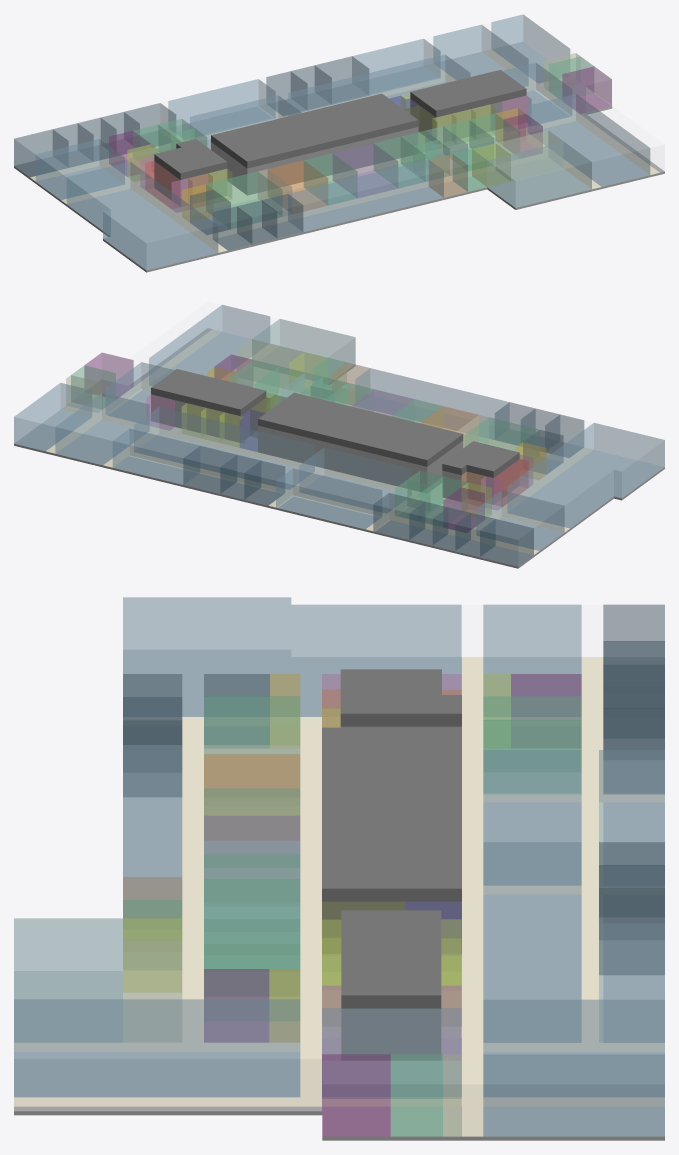
Rendered from SpacePlanning.gltf.
The picture shows the model from 3 angles, top to bottom: view 1: azimuth 30°, elevation 25°; view 2: azimuth 150°, elevation 25°; view 3: azimuth 270°, elevation 25°; orthographic projection. The views are drawn at different scales.
Parts seen in each view (by area): view 1: 578219e0-9856-4081-84ac-162c3aeb03e3_mesh, 3606f0df-44c4-44f6-a435-e1a0e82ad952_mesh, d583ab8f-e34f-4f96-8d65-cfbe2e4169eb_mesh, c1137b55-97d3-4327-931e-a519d5170c7f_mesh, 2bc64f56-2a92-4327-9a93-3a0712d9a7a2_mesh, 4f078090-3fbf-4544-b700-0b62859893aa_mesh, d5181627-fd1c-4803-a74a-4a32c890e183_mesh, 18dfb5b2-8659-4a04-b5fe-ef76efbe9e72_mesh, 18a799c1-82ca-4eeb-8200-65c109356fa4_mesh, 8dd07106-031f-4a91-bbbe-b4e16e608424_mesh, 3043164d-509c-4c94-a68b-1f2dc6232ccf_mesh, 8e66fce6-6ddf-4008-9de9-02c5e11db4a6_mesh (+61 smaller); view 2: 578219e0-9856-4081-84ac-162c3aeb03e3_mesh, 3606f0df-44c4-44f6-a435-e1a0e82ad952_mesh, d583ab8f-e34f-4f96-8d65-cfbe2e4169eb_mesh, c1137b55-97d3-4327-931e-a519d5170c7f_mesh, 18a799c1-82ca-4eeb-8200-65c109356fa4_mesh, 2bc64f56-2a92-4327-9a93-3a0712d9a7a2_mesh, d5181627-fd1c-4803-a74a-4a32c890e183_mesh, 4f078090-3fbf-4544-b700-0b62859893aa_mesh, 63f06fef-f0a7-4e81-94a0-9d4a59bf98f2_mesh, 8e66fce6-6ddf-4008-9de9-02c5e11db4a6_mesh, 8dd07106-031f-4a91-bbbe-b4e16e608424_mesh, 18dfb5b2-8659-4a04-b5fe-ef76efbe9e72_mesh (+60 smaller); view 3: 578219e0-9856-4081-84ac-162c3aeb03e3_mesh, 3606f0df-44c4-44f6-a435-e1a0e82ad952_mesh, c1137b55-97d3-4327-931e-a519d5170c7f_mesh, 2bc64f56-2a92-4327-9a93-3a0712d9a7a2_mesh, d583ab8f-e34f-4f96-8d65-cfbe2e4169eb_mesh, 18a799c1-82ca-4eeb-8200-65c109356fa4_mesh, 8e66fce6-6ddf-4008-9de9-02c5e11db4a6_mesh, ac015f33-7ea9-4a00-8fcc-ef9436433a6e_mesh, d5181627-fd1c-4803-a74a-4a32c890e183_mesh, 18dfb5b2-8659-4a04-b5fe-ef76efbe9e72_mesh, 63f06fef-f0a7-4e81-94a0-9d4a59bf98f2_mesh, 1436993b-e7c8-4199-b3c5-b80213dc59dc_mesh (+70 smaller).
Boxes of the visible parts, x1=… form: 578219e0-9856-4081-84ac-162c3aeb03e3_mesh: x1=14, y1=15, x2=664, y2=269; 3606f0df-44c4-44f6-a435-e1a0e82ad952_mesh: x1=14, y1=42, x2=664, y2=272; d583ab8f-e34f-4f96-8d65-cfbe2e4169eb_mesh: x1=211, y1=93, x2=418, y2=188; c1137b55-97d3-4327-931e-a519d5170c7f_mesh: x1=67, y1=162, x2=217, y2=269; 2bc64f56-2a92-4327-9a93-3a0712d9a7a2_mesh: x1=528, y1=94, x2=649, y2=186; 4f078090-3fbf-4544-b700-0b62859893aa_mesh: x1=288, y1=160, x2=443, y2=231; d5181627-fd1c-4803-a74a-4a32c890e183_mesh: x1=410, y1=70, x2=526, y2=142; 18dfb5b2-8659-4a04-b5fe-ef76efbe9e72_mesh: x1=487, y1=142, x2=591, y2=207; 18a799c1-82ca-4eeb-8200-65c109356fa4_mesh: x1=288, y1=55, x2=470, y2=115; 8dd07106-031f-4a91-bbbe-b4e16e608424_mesh: x1=168, y1=79, x2=275, y2=134; 3043164d-509c-4c94-a68b-1f2dc6232ccf_mesh: x1=36, y1=139, x2=124, y2=199; 8e66fce6-6ddf-4008-9de9-02c5e11db4a6_mesh: x1=433, y1=25, x2=528, y2=86; 578219e0-9856-4081-84ac-162c3aeb03e3_mesh: x1=14, y1=302, x2=664, y2=565; 3606f0df-44c4-44f6-a435-e1a0e82ad952_mesh: x1=14, y1=328, x2=664, y2=568; d583ab8f-e34f-4f96-8d65-cfbe2e4169eb_mesh: x1=258, y1=392, x2=463, y2=486; c1137b55-97d3-4327-931e-a519d5170c7f_mesh: x1=507, y1=423, x2=664, y2=527; 18a799c1-82ca-4eeb-8200-65c109356fa4_mesh: x1=134, y1=407, x2=314, y2=489; 2bc64f56-2a92-4327-9a93-3a0712d9a7a2_mesh: x1=149, y1=305, x2=269, y2=385; d5181627-fd1c-4803-a74a-4a32c890e183_mesh: x1=151, y1=369, x2=266, y2=441; 4f078090-3fbf-4544-b700-0b62859893aa_mesh: x1=355, y1=368, x2=509, y2=439; 63f06fef-f0a7-4e81-94a0-9d4a59bf98f2_mesh: x1=299, y1=447, x2=411, y2=512; 8e66fce6-6ddf-4008-9de9-02c5e11db4a6_mesh: x1=55, y1=393, x2=149, y2=464; 8dd07106-031f-4a91-bbbe-b4e16e608424_mesh: x1=276, y1=468, x2=381, y2=528; 18dfb5b2-8659-4a04-b5fe-ef76efbe9e72_mesh: x1=252, y1=319, x2=355, y2=377; 578219e0-9856-4081-84ac-162c3aeb03e3_mesh: x1=14, y1=598, x2=664, y2=1135; 3606f0df-44c4-44f6-a435-e1a0e82ad952_mesh: x1=14, y1=650, x2=664, y2=1140; c1137b55-97d3-4327-931e-a519d5170c7f_mesh: x1=123, y1=597, x2=461, y2=716; 2bc64f56-2a92-4327-9a93-3a0712d9a7a2_mesh: x1=14, y1=999, x2=299, y2=1096; d583ab8f-e34f-4f96-8d65-cfbe2e4169eb_mesh: x1=322, y1=727, x2=461, y2=952; 18a799c1-82ca-4eeb-8200-65c109356fa4_mesh: x1=483, y1=842, x2=581, y2=1041; 8e66fce6-6ddf-4008-9de9-02c5e11db4a6_mesh: x1=483, y1=1000, x2=664, y2=1096; ac015f33-7ea9-4a00-8fcc-ef9436433a6e_mesh: x1=483, y1=1054, x2=664, y2=1136; d5181627-fd1c-4803-a74a-4a32c890e183_mesh: x1=341, y1=910, x2=441, y2=1047; 18dfb5b2-8659-4a04-b5fe-ef76efbe9e72_mesh: x1=14, y1=918, x2=122, y2=1041; 63f06fef-f0a7-4e81-94a0-9d4a59bf98f2_mesh: x1=483, y1=750, x2=581, y2=884; 1436993b-e7c8-4199-b3c5-b80213dc59dc_mesh: x1=322, y1=1008, x2=461, y2=1098.
Size of the model in its own units: 79.87 by 5.3 by 45.11.
